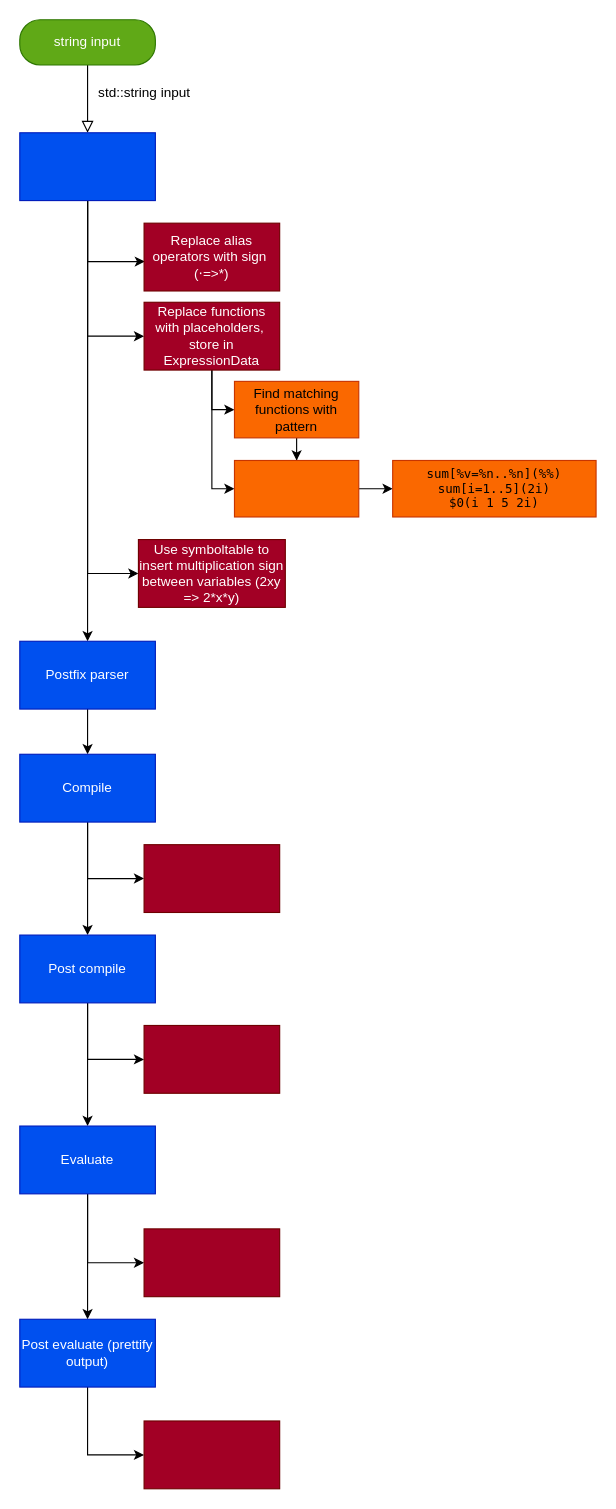
Some shapes in this 616 by 1509 pixel diagram are drawn without their labels. The centre of each missing label's shape, as x and y in pixels:
Create binary expression tree: [211,878]
Pre-parse string: [87,166]
Remove "x=" from non true equations: [211,1454]
Replace function with placeholder var and inputs (: [296,488]
Replace placeholder nodes with function nodes: [211,1058]
Solve for x: [211,1262]
